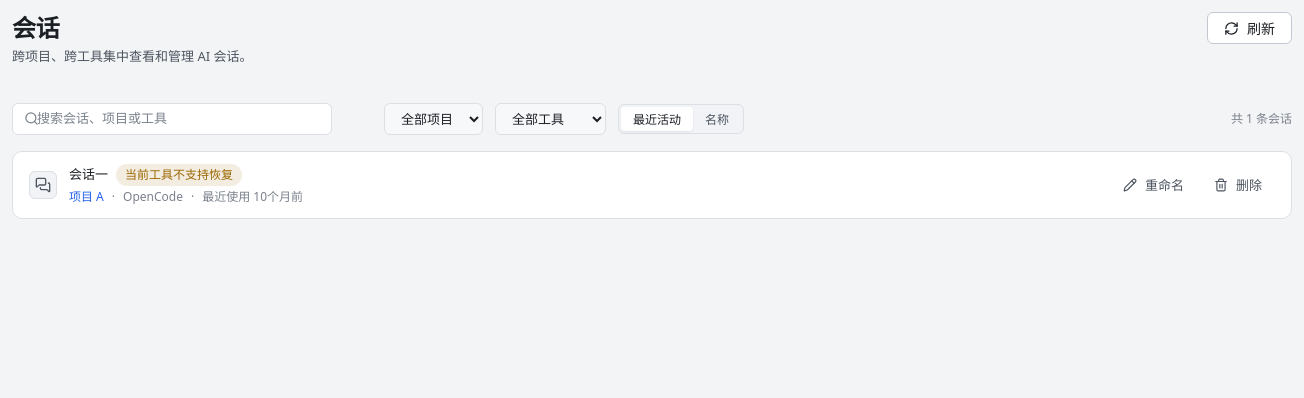
会话中心 › 搜索无结果时展示空状态，并可清除筛选
The image size is (1304, 398).
expect the text "会话一" is shown: met, box [69,165,108,184]
Type "不存在" into the search field labelled "搜索会话". click: {"x": 172, "y": 119}
box: [12,103,332,135]
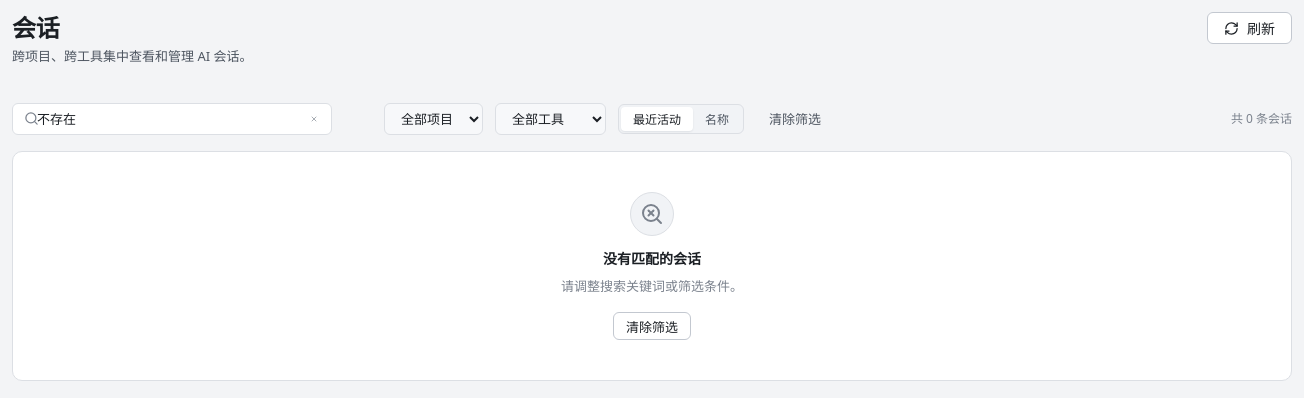
expect the text "没有匹配的会话" is shown: met, box [603,248,701,269]
Click the button "清除筛选" in the row of "共 0 条会话". click: {"x": 795, "y": 119}
box: [756,105,834,133]
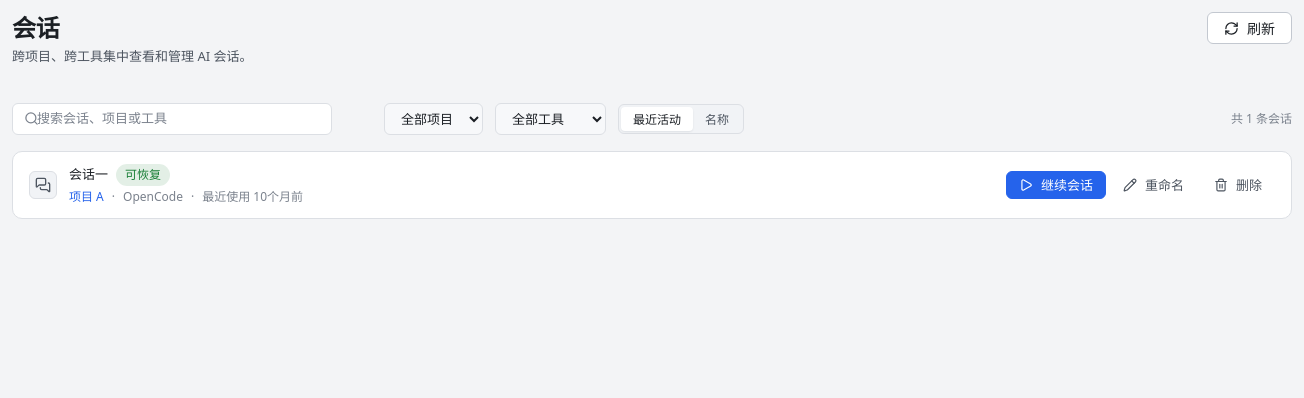
expect the text "会话一" is shown: met, box [69,165,108,184]
